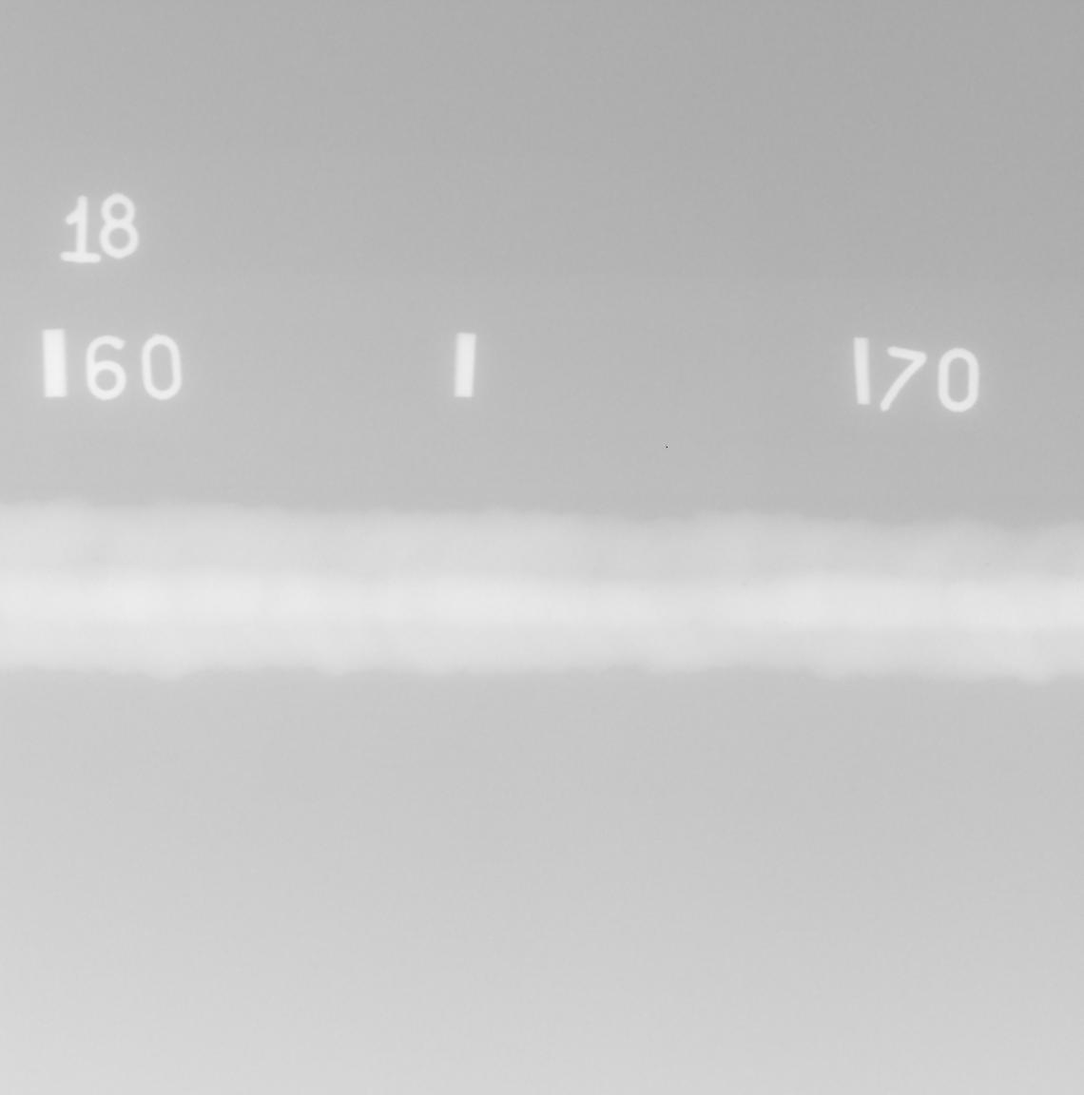Pore/Porosity: (742, 582, 747, 586), (627, 576, 632, 580), (987, 562, 991, 567), (641, 586, 645, 590), (117, 605, 121, 609), (758, 563, 761, 567), (713, 585, 716, 588), (94, 558, 97, 561)
